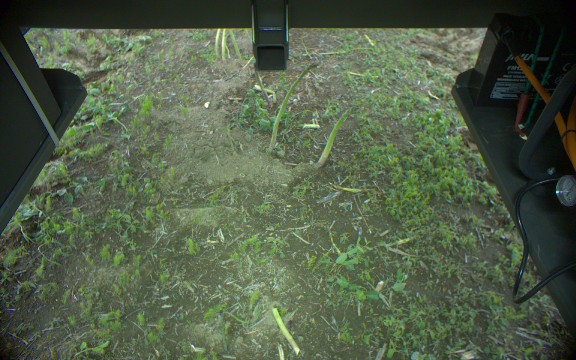aspa: (271, 60, 320, 151), (319, 106, 358, 164), (273, 305, 301, 354), (226, 29, 240, 59), (242, 27, 252, 59), (220, 29, 228, 60), (215, 28, 221, 54)
